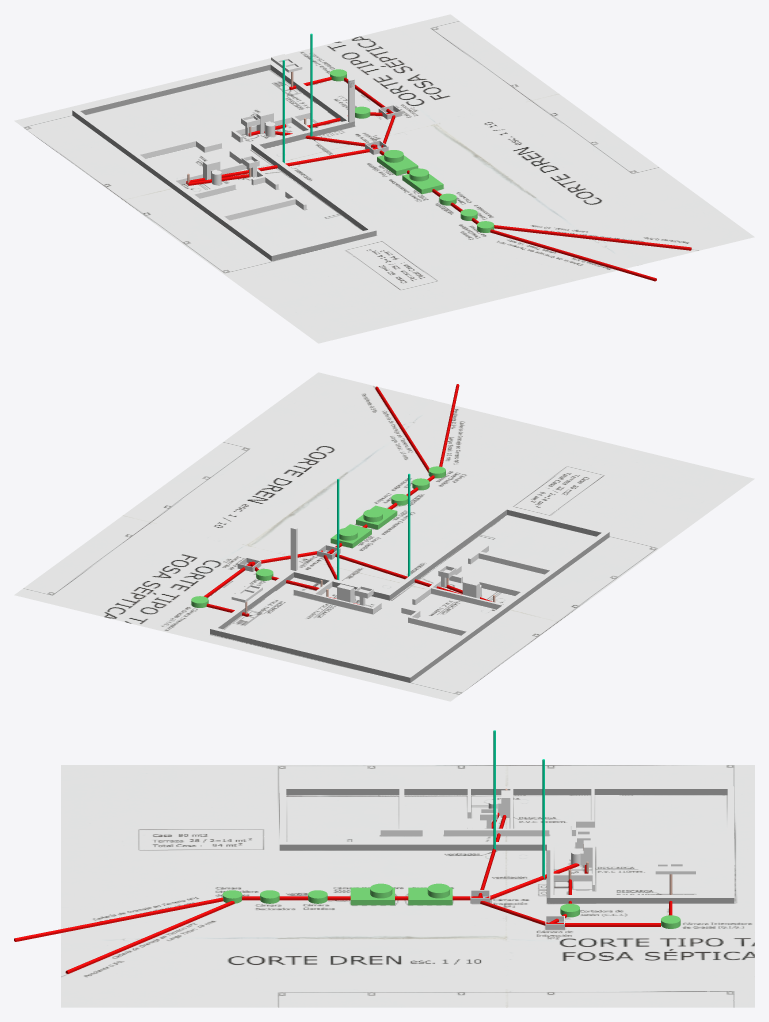
Rendered from modelo.glb.
3 renders of one model, top to bottom at view 1: azimuth 30°, elevation 25°; view 2: azimuth 150°, elevation 25°; view 3: azimuth 270°, elevation 25°, orthographic. The views are drawn at different scales.
Visible parts, largest first — view 1: Group2, Group19, Model, Group13, Group15, Group30, Group28, Group35, Group25; view 2: Group2, Group19, Model, Group30, Group28, Group25; view 3: Group2, Group19, Model, Group15, Group28, Group30, Group13, Group25, Group26, Group27.
Boxes of the visible parts, x1,y1,x2,y2 form: Group2: [14, 14, 754, 343]; Group19: [72, 61, 376, 261]; Model: [139, 112, 310, 220]; Group13: [494, 225, 691, 250]; Group15: [490, 229, 656, 281]; Group30: [402, 168, 443, 194]; Group28: [377, 150, 418, 175]; Group35: [186, 147, 376, 183]; Group25: [439, 193, 494, 232]; Group2: [14, 372, 754, 701]; Group19: [210, 506, 609, 682]; Model: [293, 545, 551, 635]; Group30: [356, 505, 397, 529]; Group28: [330, 524, 371, 548]; Group25: [391, 466, 445, 505]; Group2: [61, 765, 754, 1007]; Group19: [279, 786, 734, 903]; Model: [380, 789, 594, 890]; Group15: [14, 897, 223, 941]; Group28: [408, 883, 452, 905]; Group30: [350, 883, 394, 905]; Group13: [65, 901, 234, 973]; Group25: [222, 890, 327, 903]; Group26: [242, 896, 482, 900]; Group27: [655, 863, 695, 874].
Size of the model in its own units: 17.49 by 4.05 by 22.55.
10 materials, 1 textured.
